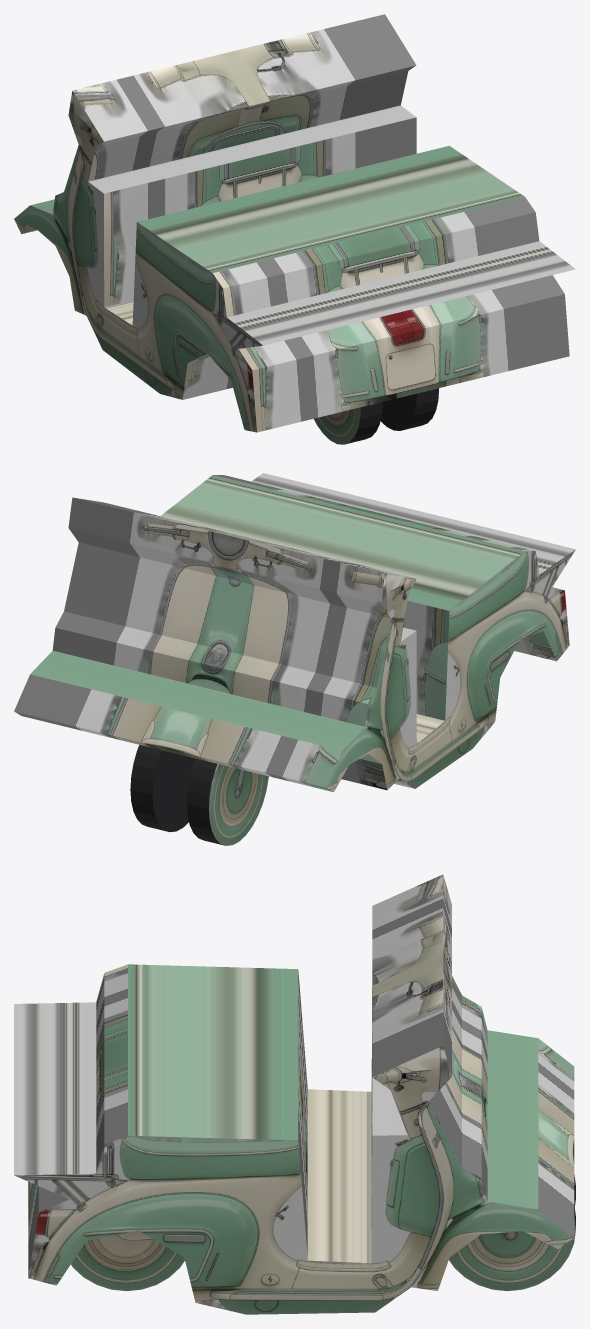
File: scooter_moped.glb
The picture shows the model from 3 angles, top to bottom: view 1: azimuth 30°, elevation 25°; view 2: azimuth 150°, elevation 25°; view 3: azimuth 270°, elevation 25°; orthographic projection. The views are drawn at different scales.
Parts seen in each view (by area): view 1: scooter_moped, wheel_BL, wheel_BR; view 2: scooter_moped, wheel_FL, wheel_FR; view 3: scooter_moped, wheel_FR, wheel_BR.
Boxes of the visible parts, box(x1,y1,x2,y2) form: scooter_moped: box(14, 14, 575, 432); wheel_BL: box(314, 402, 382, 444); wheel_BR: box(380, 388, 439, 430); scooter_moped: box(14, 473, 575, 791); wheel_FL: box(186, 758, 268, 845); wheel_FR: box(130, 745, 195, 831); scooter_moped: box(14, 874, 574, 1314); wheel_FR: box(449, 1205, 575, 1291); wheel_BR: box(71, 1230, 184, 1291).
Bounding box in the file's own units: 1.3 × 1.1 × 1.8.
3 materials, 1 textured.
